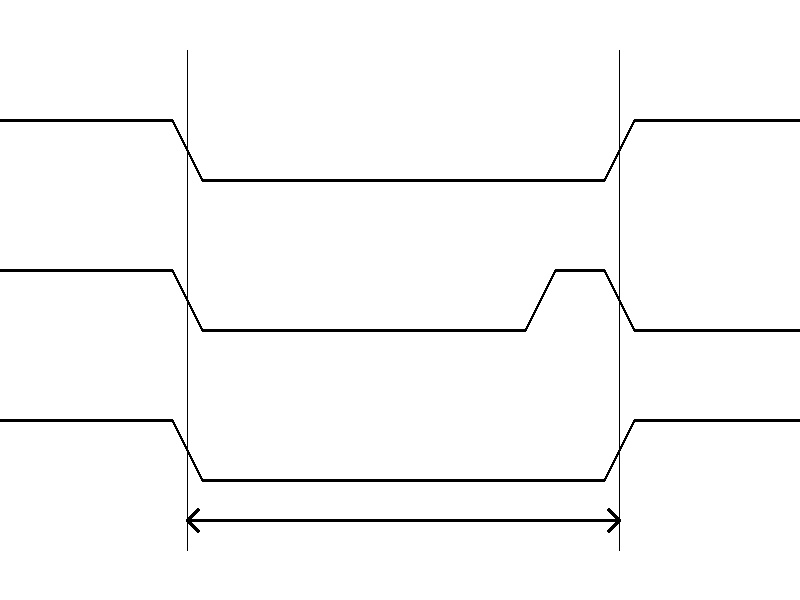double_arrow: (187, 505, 619, 535)
